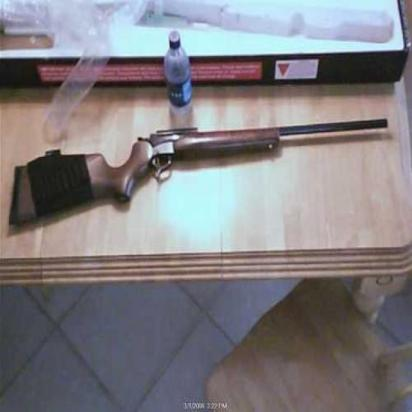Gun: (6, 115, 393, 229)
